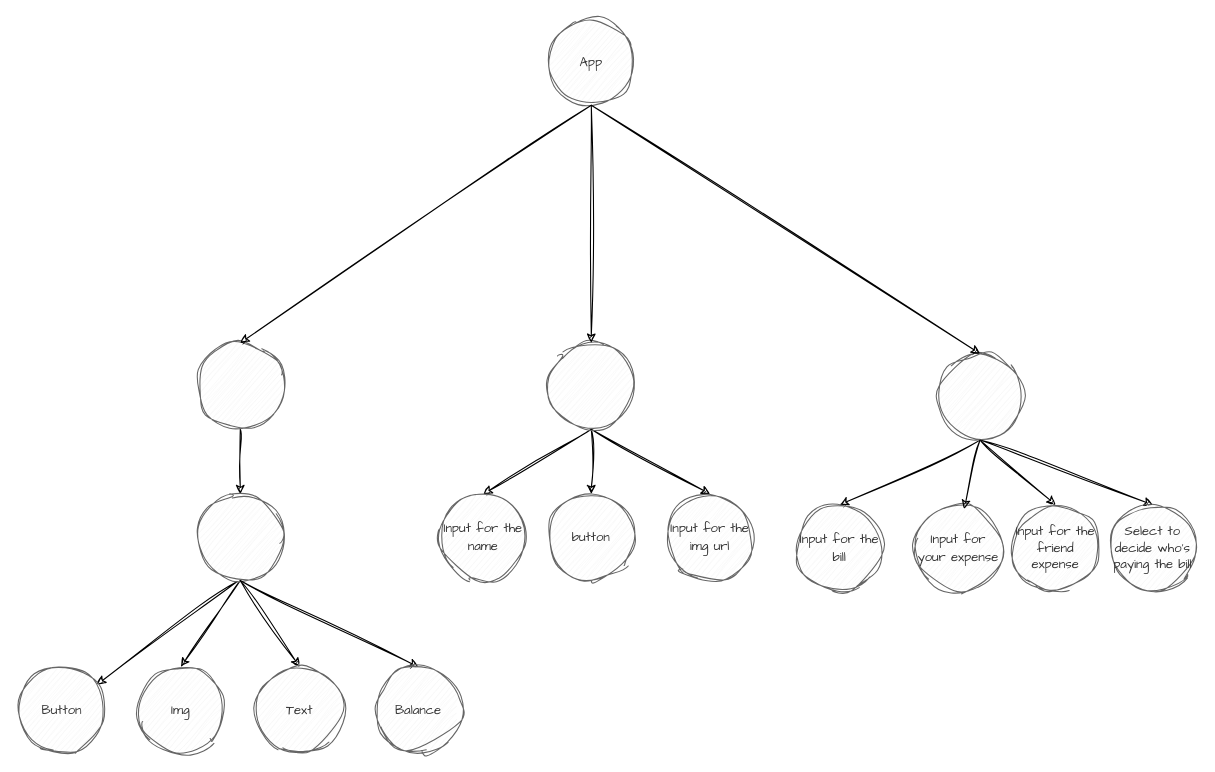
This 1215x772 diagram has some shape labels left out. Each missing label, with the box of its shape:
Bill Split Form: (936, 353, 1023, 440)
Friend: (196, 493, 284, 580)
Friend Add Form: (547, 342, 634, 429)
Friends List: (196, 342, 284, 429)
